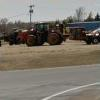Tractor: (18, 17, 84, 50)
